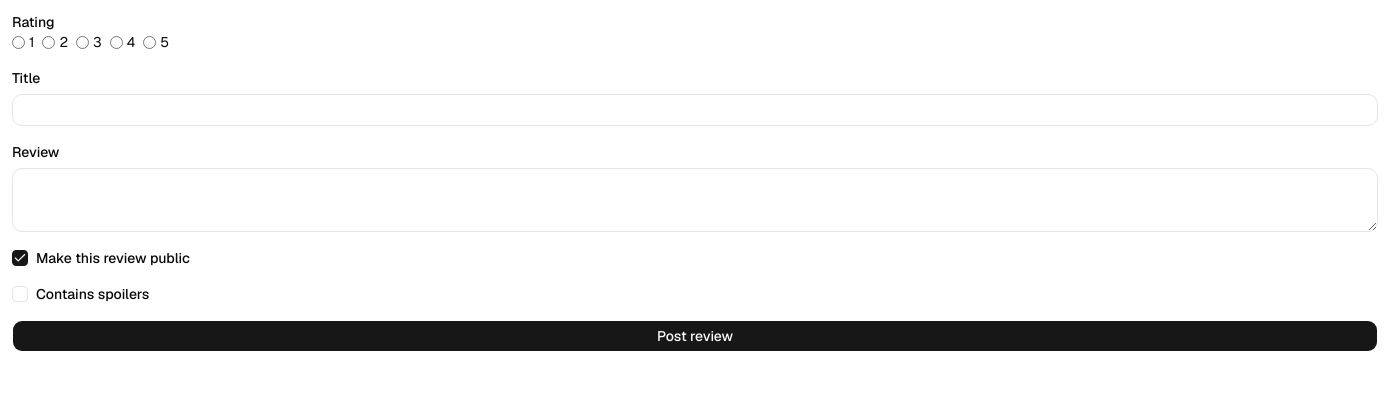
Test: ReviewForm › surfaces the exactly-one-of-book-or-release 422 as a form-level error
This screenshot has width=1390, height=404.
Click the button "Post review" at (695, 336), box x1=12 y1=320 x2=1378 y2=352
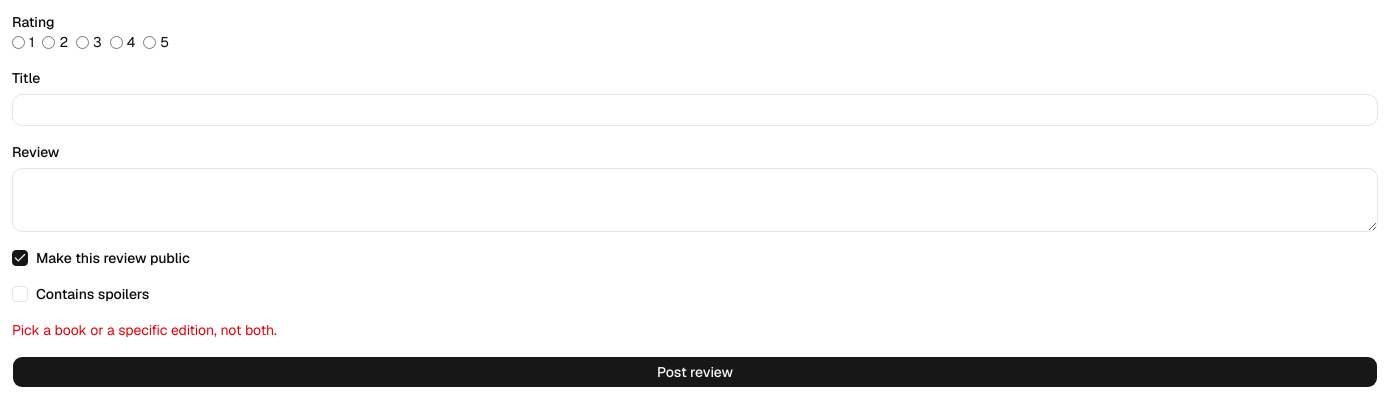
Result: the text "Pick a book or a specific edition, not both." is shown at x1=12 y1=321 x2=277 y2=339
